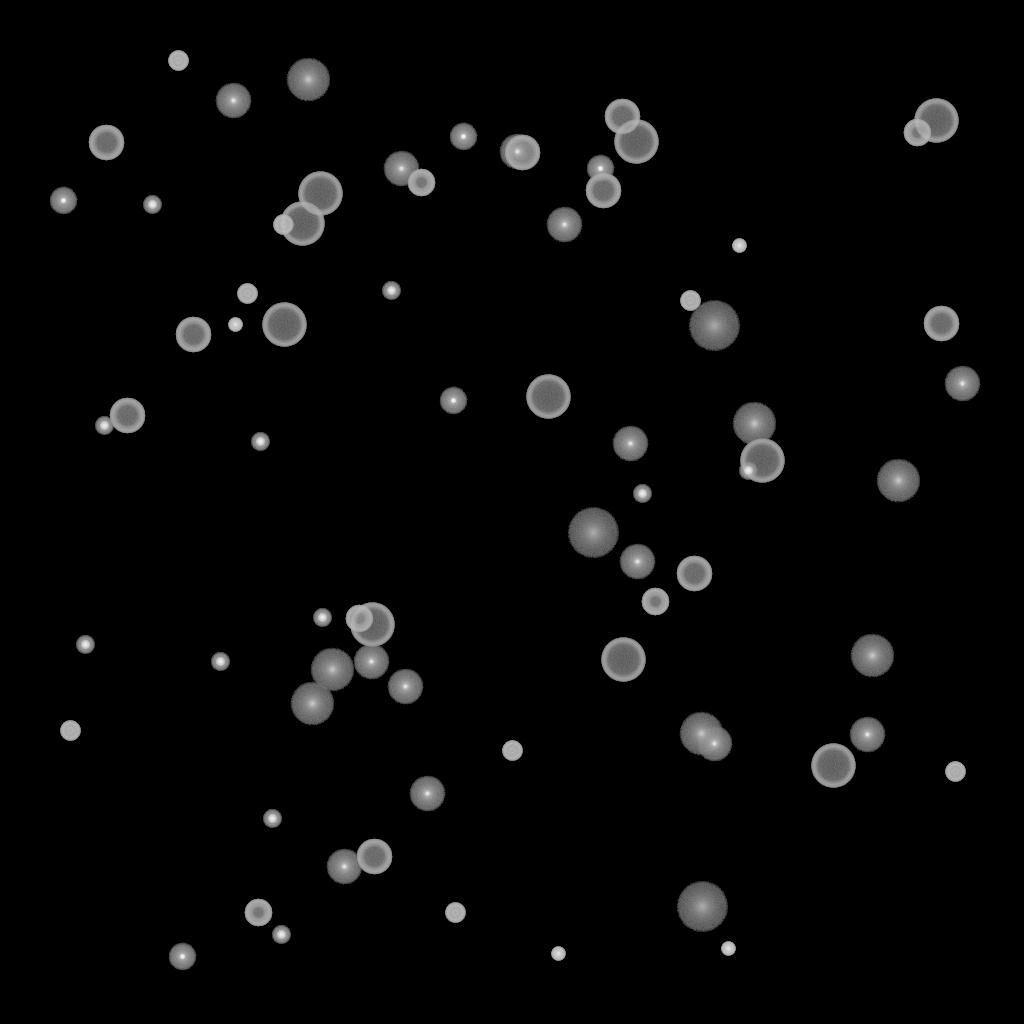depth:-10: (586, 155, 614, 183), (168, 943, 196, 971), (49, 187, 77, 215), (449, 123, 477, 151), (439, 387, 467, 415)
depth:-20: (739, 462, 757, 480), (211, 653, 229, 671), (95, 417, 113, 435), (313, 609, 331, 627), (143, 196, 161, 214), (263, 810, 281, 828), (382, 282, 400, 300), (76, 636, 94, 654), (633, 485, 651, 503), (272, 926, 290, 944), (251, 433, 269, 451)
depth:-30: (551, 947, 565, 961), (721, 942, 735, 956), (732, 239, 746, 253), (228, 318, 242, 332)
depth:-40: (60, 721, 80, 741), (168, 51, 188, 71), (680, 291, 700, 311), (502, 741, 522, 761), (237, 284, 257, 304), (445, 903, 465, 923), (273, 215, 293, 235), (945, 762, 965, 782)
depth:-50: (903, 119, 931, 147), (345, 605, 373, 633), (641, 588, 669, 616), (407, 169, 435, 197), (244, 899, 272, 927)
depth:-60: (504, 135, 540, 171), (604, 99, 640, 135), (923, 306, 959, 342), (356, 839, 392, 875), (88, 125, 124, 161), (676, 556, 712, 592), (109, 398, 145, 434), (585, 173, 621, 209), (175, 317, 211, 353)
depth:-70: (262, 303, 306, 347), (280, 202, 324, 246), (350, 603, 394, 647), (914, 99, 958, 143), (298, 172, 342, 216), (601, 638, 645, 682), (614, 120, 658, 164), (811, 744, 855, 788), (526, 375, 570, 419), (740, 439, 784, 483)
depth:0: (546, 207, 582, 243), (944, 366, 980, 402), (326, 849, 362, 885), (387, 669, 423, 705), (619, 544, 655, 580), (409, 776, 445, 812), (383, 151, 419, 187), (499, 134, 535, 170), (353, 644, 389, 680), (612, 426, 648, 462), (696, 726, 732, 762), (849, 717, 885, 753), (215, 83, 251, 119)
depth:10: (876, 459, 920, 503), (850, 634, 894, 678), (290, 682, 334, 726), (286, 58, 330, 102), (310, 648, 354, 692), (679, 712, 723, 756), (732, 402, 776, 446)
depth:20: (676, 882, 728, 932), (567, 508, 619, 558), (688, 301, 740, 351)
